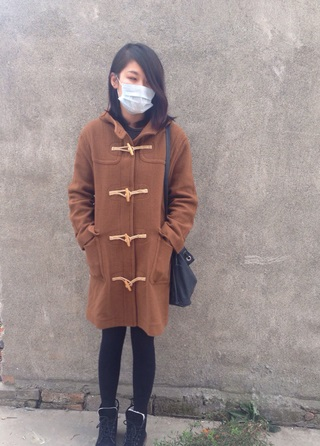face_mask: (118, 61, 152, 114)
